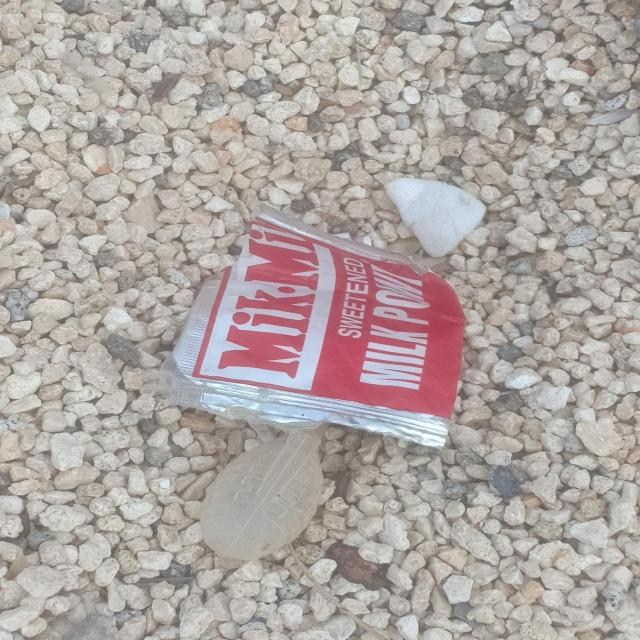plastic_waste: (183, 203, 472, 451)
